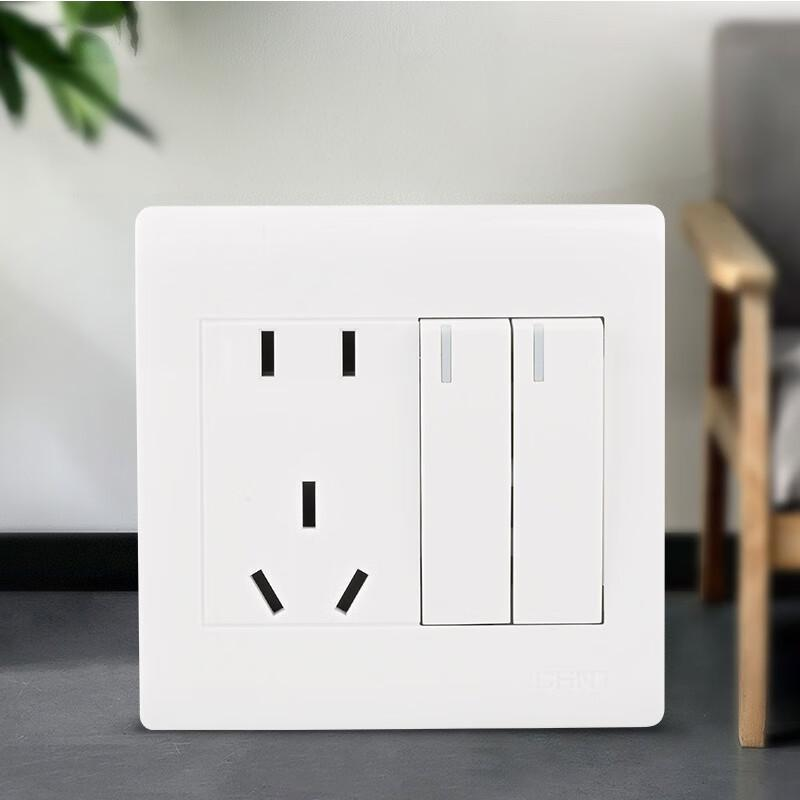button: (127, 204, 672, 730)
